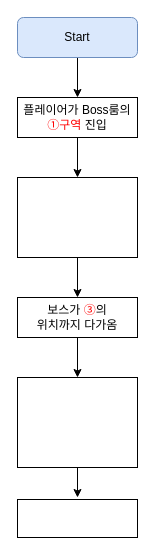
Some shapes in this 155 by 555 pixel diagram are drawn without their labels. The shapes that lost their labels are listed below. From the top down, each one's box as (x1, y1, x2, y2) in pixels, then its label:
(16, 176, 138, 258): 일정시간동안 (약 10초 가량) +sound를 재생 +camera shake
(16, 376, 138, 468): ②구역 의 발판들 일시적으로 제거 (보스전투가 끝날때까지 유지)
